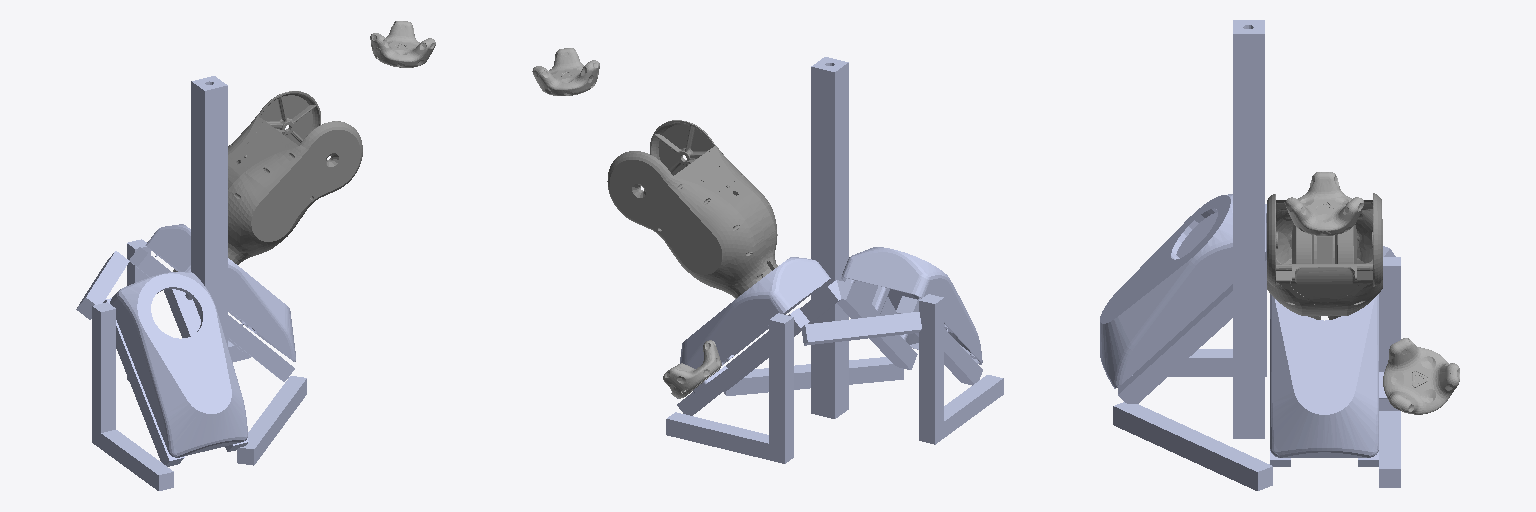
The robot description file, URDF, robot "koko_description_threedof_kin":
<robot
  name="koko_description_threedof_kin">
  <link
    name="base_link">
    <inertial>
      <origin
        xyz="0.0128424654307168 -0.162261711643048 0.155657622910268"
        rpy="0 0 0" />
      <mass
        value="2.50668095471534" />
      <inertia
        ixx="0.0599827724543488"
        ixy="-0.00761117858508908"
        ixz="0.000334029187700715"
        iyy="0.0597504740015784"
        iyz="-0.000387733898574594"
        izz="0.0375364118295859" />
    </inertial>
    <visual>
      <origin
        xyz="0 0 0"
        rpy="0 0 0" />
      <geometry>
        <mesh
          filename="package://koko_description_threedof_kin/meshes/base_link.STL" />
      </geometry>
      <material
        name="">
        <color
          rgba="0.792156862745098 0.819607843137255 0.933333333333333 1" />
      </material>
    </visual>
    <collision>
      <origin
        xyz="0 0 0"
        rpy="0 0 0" />
      <geometry>
        <mesh
          filename="package://koko_description_threedof_kin/meshes/base_link.STL" />
      </geometry>
    </collision>
  </link>
  <link
    name="base_roll_link">
    <inertial>
      <origin
        xyz="-0.00747857947952824 -2.49198025326081E-05 0.0799282586721558"
        rpy="0 0 0" />
      <mass
        value="4.07268027743269" />
      <inertia
        ixx="0.00617143853871301"
        ixy="-6.35617397225458E-07"
        ixz="-7.28586368995169E-06"
        iyy="0.00633184758209801"
        iyz="-4.26825720061228E-07"
        izz="0.00593999200779879" />
    </inertial>
    <visual>
      <origin
        xyz="0 0 0"
        rpy="0 0 0" />
      <geometry>
        <mesh
          filename="package://koko_description_threedof_kin/meshes/base_roll_link.STL" />
      </geometry>
      <material
        name="">
        <color
          rgba="0.6 0.6 0.6 1" />
      </material>
    </visual>
    <collision>
      <origin
        xyz="0 0 0"
        rpy="0 0 0" />
      <geometry>
        <mesh
          filename="package://koko_description_threedof_kin/meshes/base_roll_link.STL" />
      </geometry>
    </collision>
  </link>
  <joint
    name="base_roll_joint"
    type="continuous">
    <origin
      xyz="0.096645 -0.090805 0.21862"
      rpy="6.8385E-15 0.7854 4.8356E-15" />
    <parent
      link="base_link" />
    <child
      link="base_roll_link" />
    <axis
      xyz="0 0 1" />
  </joint>
  <link
    name="shoulder_link">
    <inertial>
      <origin
        xyz="-0.00194548267655539 -0.000308525194418596 -2.64734109634013E-08"
        rpy="0 0 0" />
      <mass
        value="0.437261200364267" />
      <inertia
        ixx="0.00108381098583672"
        ixy="1.14741689236013E-05"
        ixz="9.73805804020205E-07"
        iyy="0.00102494832628715"
        iyz="-1.61217444077601E-06"
        izz="0.000657515886602445" />
    </inertial>
    <visual>
      <origin
        xyz="0 0 0"
        rpy="0 0 0" />
      <geometry>
        <mesh
          filename="package://koko_description_threedof_kin/meshes/shoulder_link.STL" />
      </geometry>
      <material
        name="">
        <color
          rgba="1 0.501960784313725 0.501960784313725 1" />
      </material>
    </visual>
    <collision>
      <origin
        xyz="0 0 0"
        rpy="0 0 0" />
      <geometry>
        <mesh
          filename="package://koko_description_threedof_kin/meshes/shoulder_link.STL" />
      </geometry>
    </collision>
  </link>
  <joint
    name="shoulder_joint"
    type="continuous">
    <origin
      xyz="0.01143 4.0407E-05 0.20168"
      rpy="1.5708 -0.7854 0.0035351" />
    <parent
      link="base_roll_link" />
    <child
      link="shoulder_link" />
    <axis
      xyz="0 0 1" />
  </joint>
  <link
    name="shoulder_roll_link">
    <inertial>
      <origin
        xyz="-0.00486443196356734 -7.29231097526539E-05 0.0726913715861005"
        rpy="0 0 0" />
      <mass
        value="4.67514001645249" />
      <inertia
        ixx="0.0156006746254829"
        ixy="-2.11629145951332E-06"
        ixz="-0.00132605076466927"
        iyy="0.0156639263378769"
        iyz="-1.79873319615197E-05"
        izz="0.00735866742307272" />
    </inertial>
    <visual>
      <origin
        xyz="0 0 0"
        rpy="0 0 0" />
      <geometry>
        <mesh
          filename="package://koko_description_threedof_kin/meshes/shoulder_roll_link.STL" />
      </geometry>
      <material
        name="">
        <color
          rgba="0.298039215686275 0.298039215686275 0.298039215686275 1" />
      </material>
    </visual>
    <collision>
      <origin
        xyz="0 0 0"
        rpy="0 0 0" />
      <geometry>
        <mesh
          filename="package://koko_description_threedof_kin/meshes/shoulder_roll_link.STL" />
      </geometry>
    </collision>
  </link>
  <joint
    name="shoulder_roll_joint"
    type="continuous">
    <origin
      xyz="0.069522 0.012605 0"
      rpy="-1.5708 -0.014012 -1.3914" />
    <parent
      link="shoulder_link" />
    <child
      link="shoulder_roll_link" />
    <axis
      xyz="0 0 1" />
  </joint>
  <link
    name="lift_tracker_link">
    <inertial>
      <origin
        xyz="-7.80622232077199E-07 3.04107798096975E-05 0.0143118640037725"
        rpy="0 0 0" />
      <mass
        value="0.0852058697579257" />
      <inertia
        ixx="5.02601284413859E-05"
        ixy="3.53484940863554E-09"
        ixz="7.94335322025222E-10"
        iyy="5.05430543277045E-05"
        iyz="-1.54457209442351E-07"
        izz="8.48822669513125E-05" />
    </inertial>
    <visual>
      <origin
        xyz="0 0 0"
        rpy="0 0 0" />
      <geometry>
        <mesh
          filename="package://koko_description_threedof_kin/meshes/lift_tracker_link.STL" />
      </geometry>
      <material
        name="">
        <color
          rgba="0.698039215686274 0.698039215686274 0.698039215686274 1" />
      </material>
    </visual>
    <collision>
      <origin
        xyz="0 0 0"
        rpy="0 0 0" />
      <geometry>
        <mesh
          filename="package://koko_description_threedof_kin/meshes/lift_tracker_link.STL" />
      </geometry>
    </collision>
  </link>
  <joint
    name="lift_tracker_joint"
    type="fixed">
    <origin
      xyz="-0.068365 -0.00095778 0.096543"
      rpy="1.2603 -2.2741E-05 -1.5568" />
    <parent
      link="shoulder_roll_link" />
    <child
      link="lift_tracker_link" />
    <axis
      xyz="0 0 0" />
  </joint>
  <link
    name="base_tracker_link">
    <inertial>
      <origin
        xyz="4.43507453540271E-08 3.09552203211494E-05 0.0143117399037371"
        rpy="0 0 0" />
      <mass
        value="0.0852031301907352" />
      <inertia
        ixx="5.02578521392565E-05"
        ixy="4.79258975374871E-09"
        ixz="9.20656645310945E-10"
        iyy="5.05426153010018E-05"
        iyz="-1.54378610465988E-07"
        izz="8.48796208959856E-05" />
    </inertial>
    <visual>
      <origin
        xyz="0 0 0"
        rpy="0 0 0" />
      <geometry>
        <mesh
          filename="package://koko_description_threedof_kin/meshes/base_tracker_link.STL" />
      </geometry>
      <material
        name="">
        <color
          rgba="0.698039215686274 0.698039215686274 0.698039215686274 1" />
      </material>
    </visual>
    <collision>
      <origin
        xyz="0 0 0"
        rpy="0 0 0" />
      <geometry>
        <mesh
          filename="package://koko_description_threedof_kin/meshes/base_tracker_link.STL" />
      </geometry>
    </collision>
  </link>
  <joint
    name="base_tracker_joint"
    type="fixed">
    <origin
      xyz="0.12254 0.021141 0.1045"
      rpy="-0.002159 -0.7854 -3.1385" />
    <parent
      link="base_link" />
    <child
      link="base_tracker_link" />
    <axis
      xyz="0 0 0" />
  </joint>
</robot>

--- What the picture shows (computed from the rendered views, not written in the file) ---
3 views of the same robot in one strip: view 1: azimuth 30°, elevation 25°; view 2: azimuth 150°, elevation 25°; view 3: azimuth 270°, elevation 25° (orthographic).
Model koko_description_threedof_kin with 6 links and 5 joints (3 continuous, 2 fixed), rooted at base_link, posed all joints at 0.
Visible links, largest first — view 1: base_link, base_roll_link, lift_tracker_link; view 2: base_link, base_roll_link, lift_tracker_link, base_tracker_link; view 3: base_link, base_roll_link, base_tracker_link, lift_tracker_link.
Link boxes in pixels (<box>): base_link: <box>76,76,306,490</box>; base_roll_link: <box>228,91,362,264</box>; lift_tracker_link: <box>370,21,435,67</box>; base_link: <box>666,57,1003,463</box>; base_roll_link: <box>607,120,777,298</box>; lift_tracker_link: <box>532,48,599,95</box>; base_tracker_link: <box>663,340,721,398</box>; base_link: <box>1100,20,1400,490</box>; base_roll_link: <box>1267,193,1382,319</box>; base_tracker_link: <box>1383,338,1459,414</box>; lift_tracker_link: <box>1285,172,1363,235</box>.
Bounding box of the posed robot: 0.5955 × 0.43 × 0.5334 m (x, y, z).
4 mesh visuals loaded from 6 distinct referenced files (4 binary STL); not drawn: 2 (reference not matched to a file when rendering).
